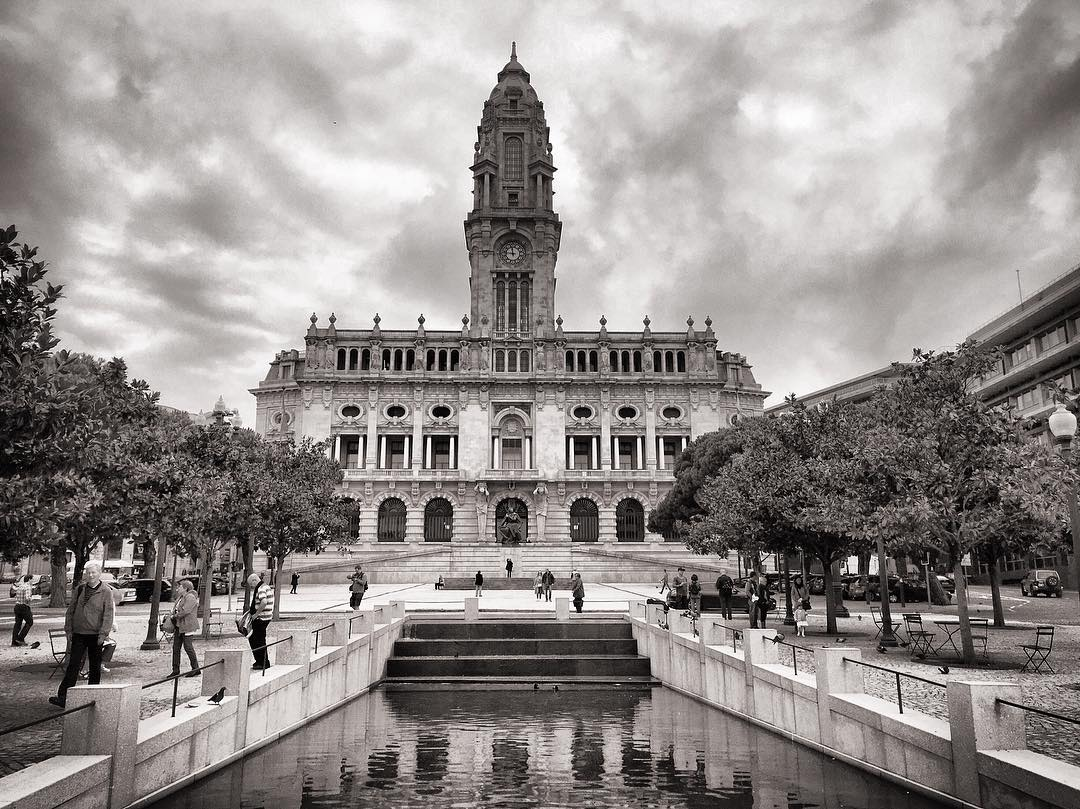camara: (248, 39, 771, 573)
